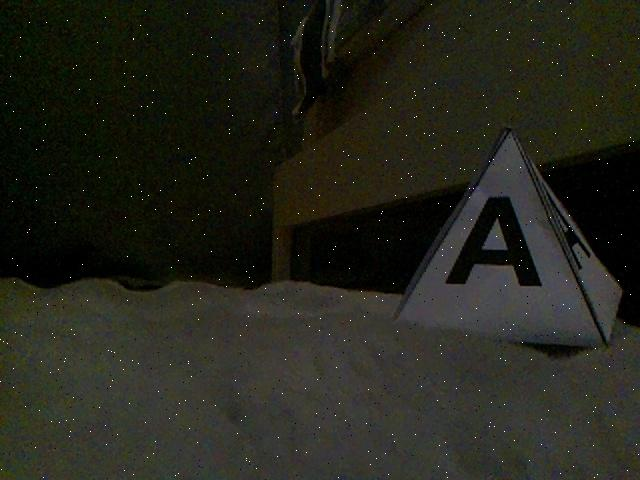A: (388, 124, 623, 353)
